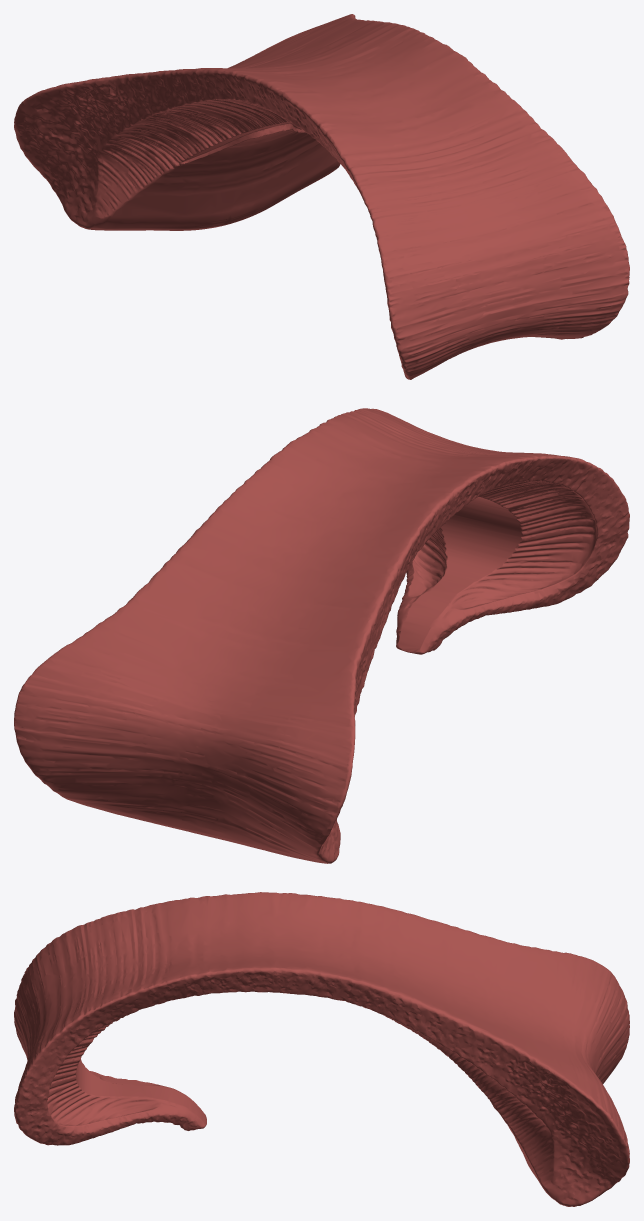
The model's file is FMA86464.glb.
The picture shows the model from 3 angles, top to bottom: view 1: azimuth 30°, elevation 25°; view 2: azimuth 150°, elevation 25°; view 3: azimuth 270°, elevation 25°; orthographic projection. The views are drawn at different scales.
Visible parts, largest first — view 1: FMA86464; view 2: FMA86464; view 3: FMA86464.
Boxes of the visible parts, left/top/right/bottom form: FMA86464: left=14, top=14, right=629, bottom=379; FMA86464: left=14, top=408, right=629, bottom=863; FMA86464: left=14, top=892, right=629, bottom=1206.
Bounding box in the file's own units: 0.0489 × 0.0367 × 0.0865.
